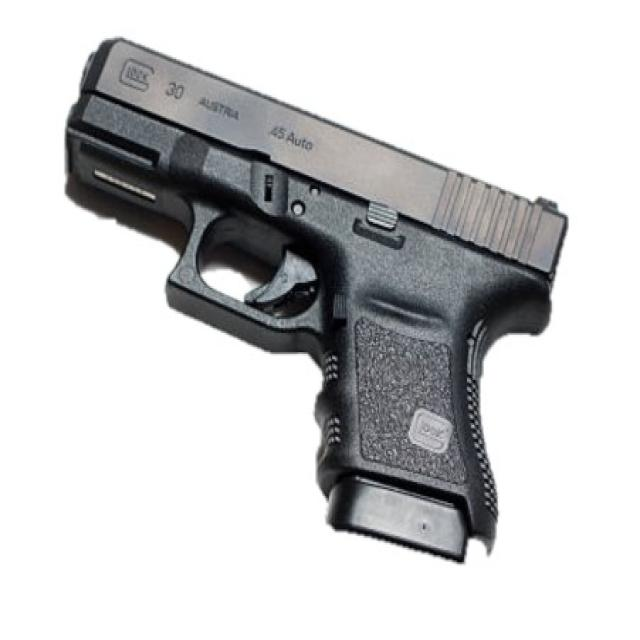pistol: (50, 29, 576, 575)
